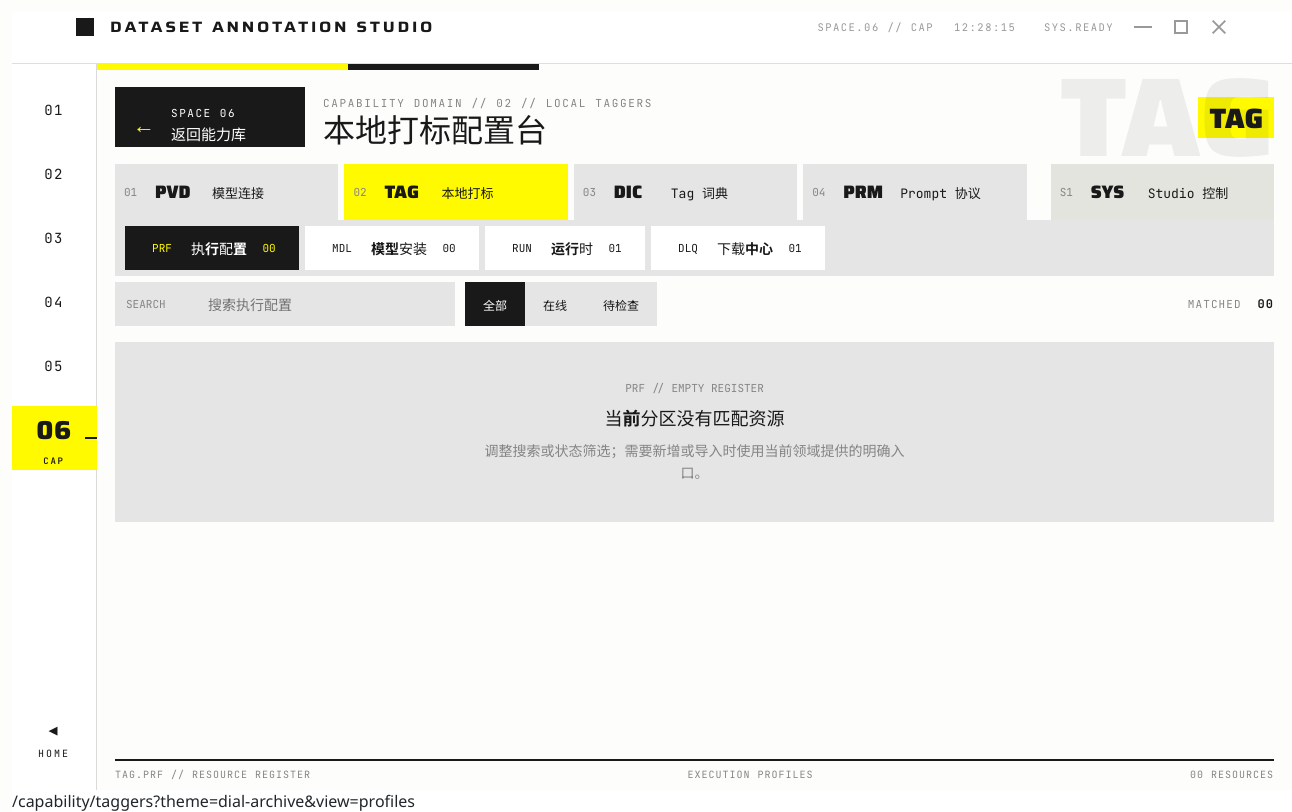
Test case: new frontend routes › keeps the category function lane in the third-level route and enters level four
(page scrolled)
Check: the heading "本地打标配置台" is shown, box [323,106,547,156]
Check: the text named "current route" reads "/capability/taggers?theme=dial-archive&view=profiles", box [12,790,415,811]
Click the button "RUN 运行时 01" at (565, 248), box [485,226,645,270]
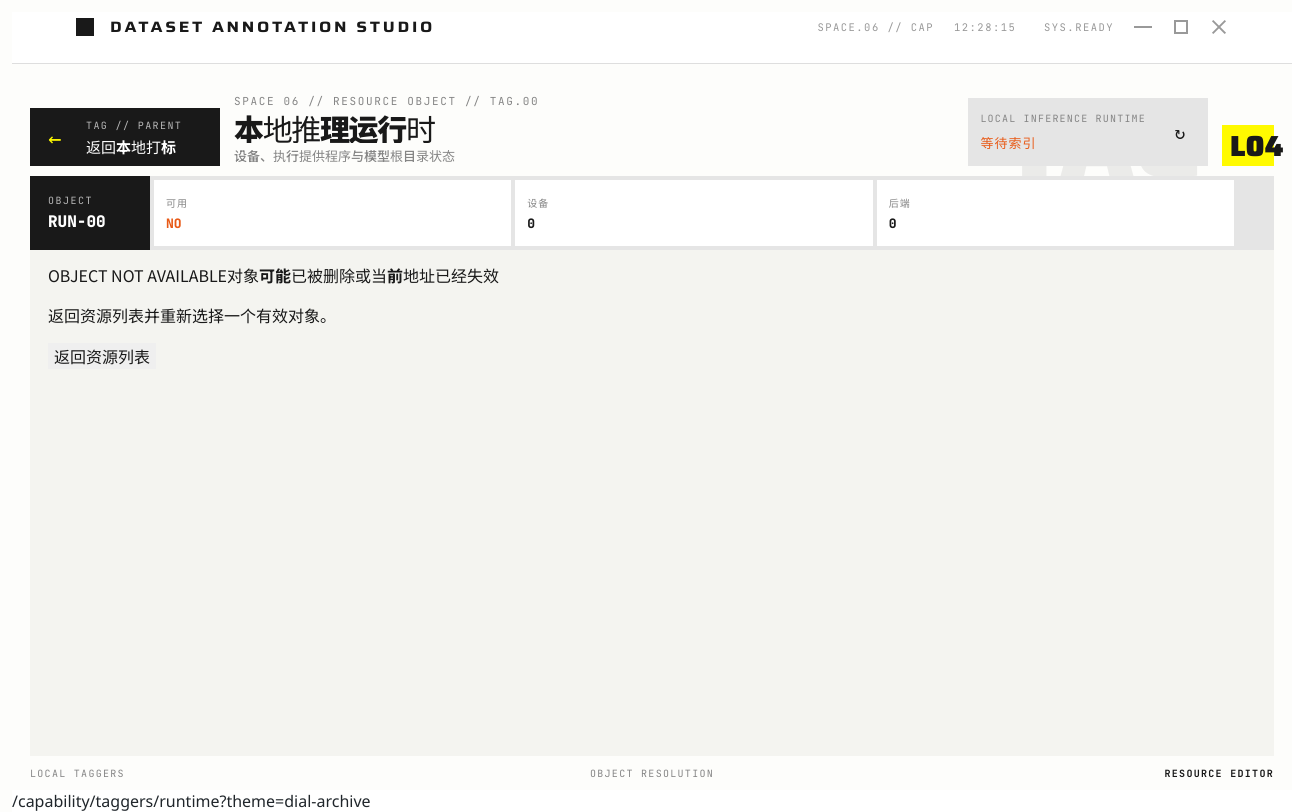
Check: the text named "current route" reads "/capability/taggers/runtime?theme=dial-archive", box [12,790,371,811]
Check: the heading "本地推理运行时" is shown, box [234,106,435,150]
